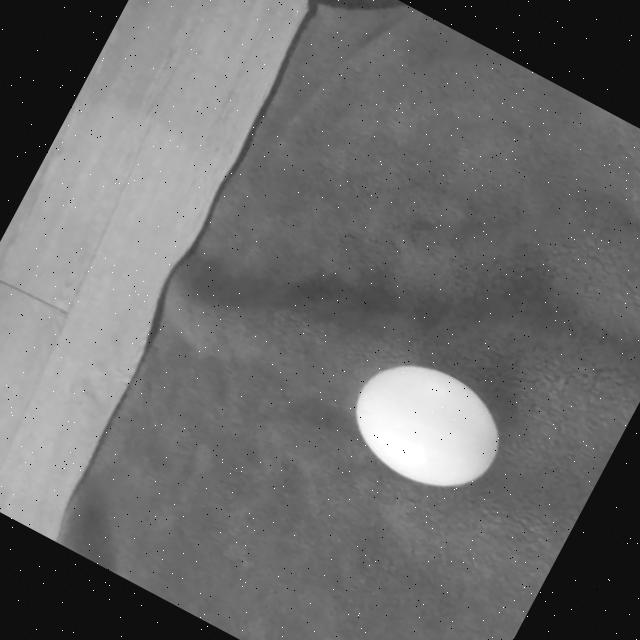ping-pong-ball: (335, 343, 519, 512)
